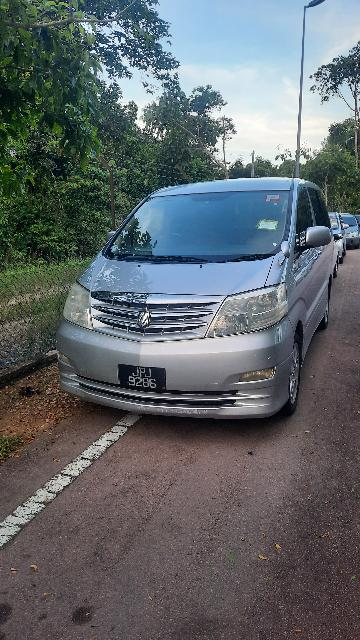License_Plate: (113, 363, 172, 397)
car: (52, 174, 343, 429)
